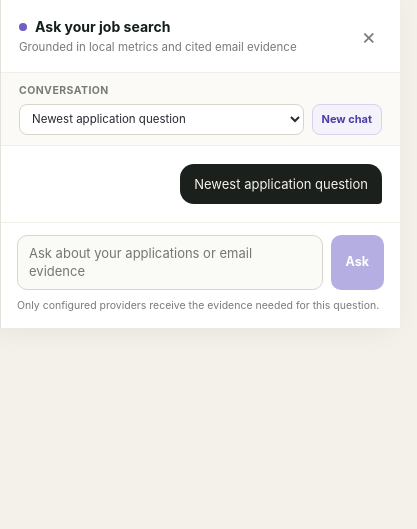
ChatDrawer › keeps saved conversations separate and can start a new chat
Expected: the text "Newest application question" is shown, [194, 174, 368, 194]
Expected: the text "Older application question" is not shown
Select "Older application question" in the dropdown labelled "Conversation" at (161, 119), box [19, 104, 304, 134]
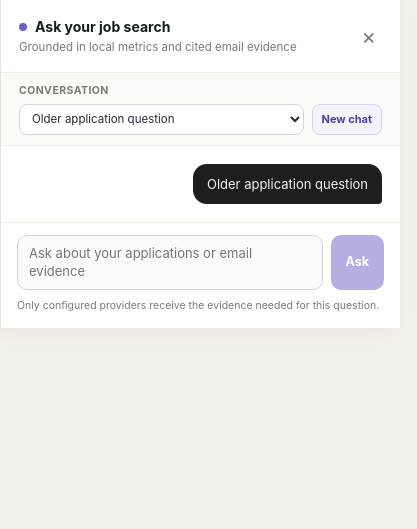
Result: the text "Older application question" is shown at [207, 174, 368, 194]
Result: the text "Newest application question" is gone
Click the button "New chat" at (347, 119), box [312, 104, 382, 134]
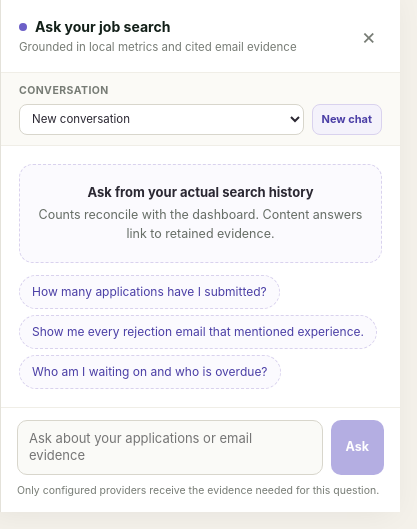
Result: the text "Ask from your actual search history" is shown at [88, 184, 314, 200]
Type "Start fresh" into the text box named "Message" at (170, 447), box [17, 420, 322, 475]
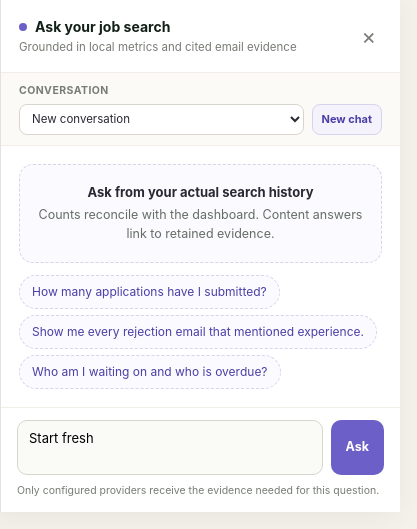
Click the button "Ask" at (357, 447), box [330, 420, 384, 475]
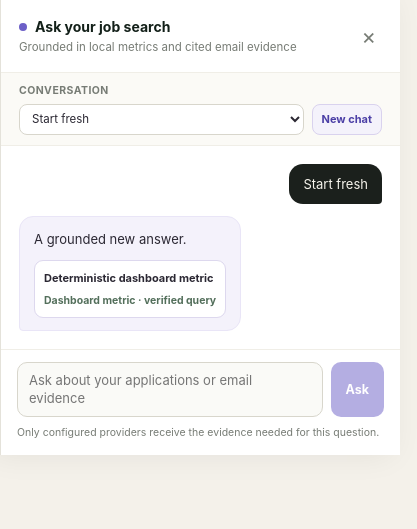
Result: the text "A grounded new answer." is shown at [34, 231, 187, 247]
